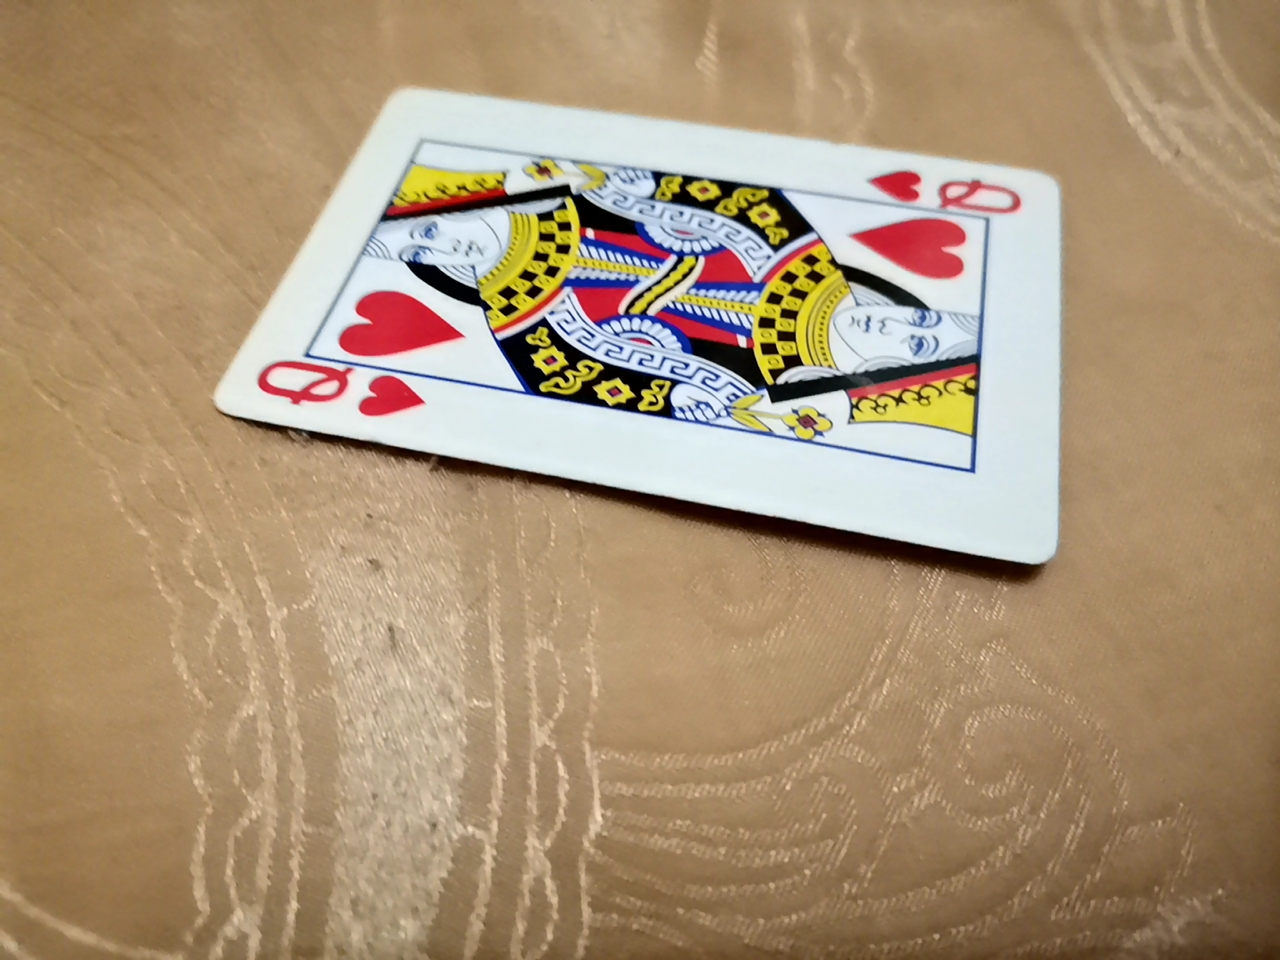hx q: (203, 98, 1098, 587)
